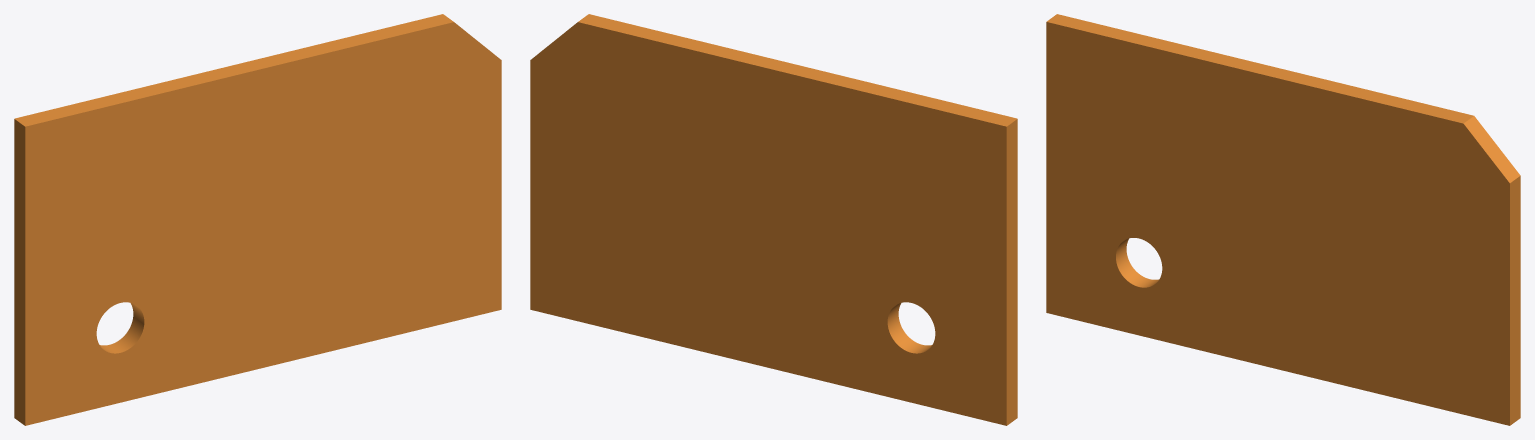
The model's file is coordinate_test.glb.
3 renders of one model, left to right at view 1: azimuth 30°, elevation 25°; view 2: azimuth 150°, elevation 25°; view 3: azimuth 330°, elevation 25°, orthographic. The views are drawn at different scales.
Parts seen in each view (by area): view 1: 100x60x4mm_NE_clip_hole_20_15; view 2: 100x60x4mm_NE_clip_hole_20_15; view 3: 100x60x4mm_NE_clip_hole_20_15.
Boxes of the visible parts, bbox=[...] form: 100x60x4mm_NE_clip_hole_20_15: bbox=[14, 14, 501, 425]; 100x60x4mm_NE_clip_hole_20_15: bbox=[530, 14, 1017, 425]; 100x60x4mm_NE_clip_hole_20_15: bbox=[1046, 14, 1520, 425].
Bounding box in the file's own units: 0.1 × 0.06 × 0.004.
